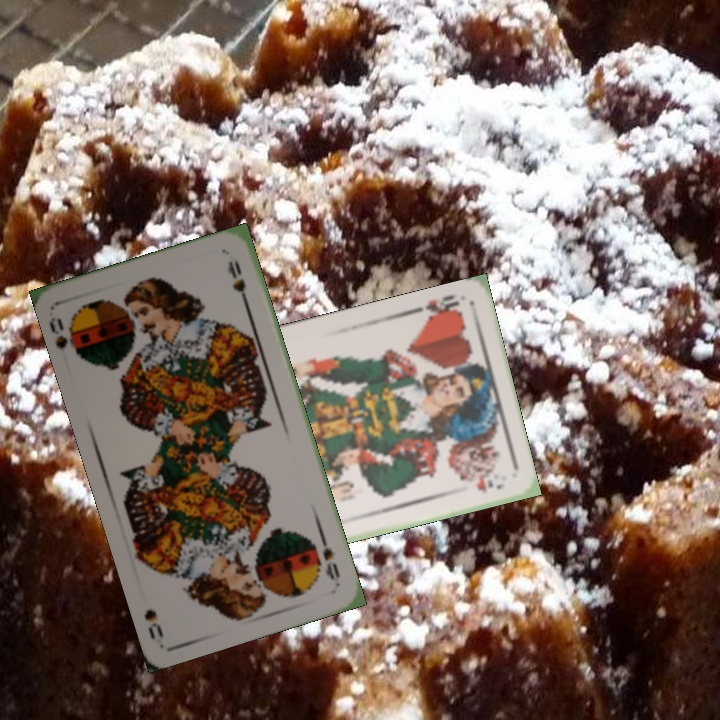HO: (421, 290, 464, 323)
SO: (45, 313, 86, 362), (315, 529, 343, 583)
